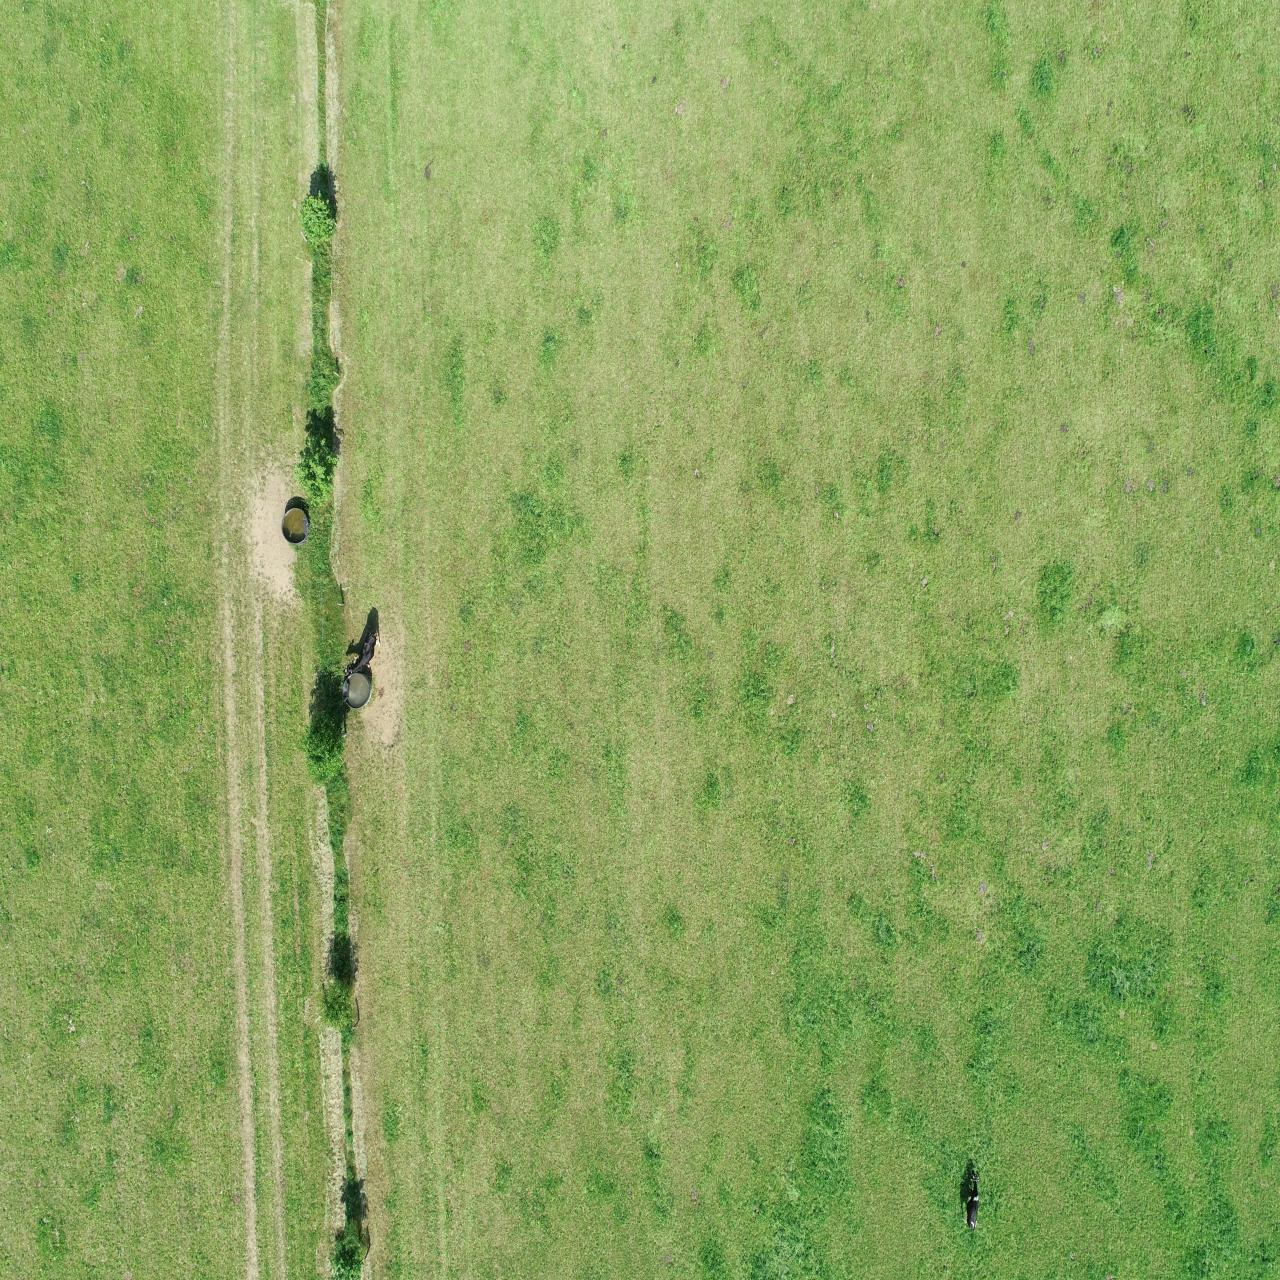cow: (341, 625, 383, 685), (962, 1169, 980, 1234)
